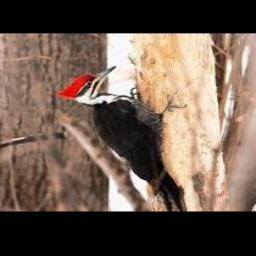Woodpecker: (56, 65, 184, 211)
